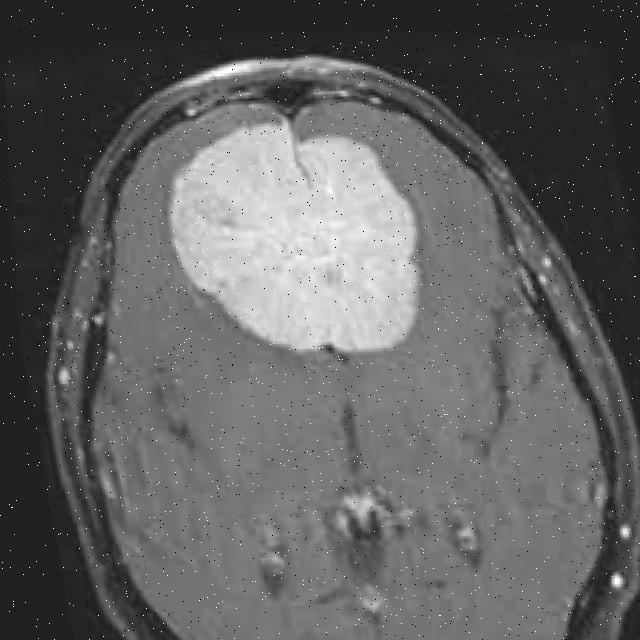Meningioma: (149, 95, 445, 381)
